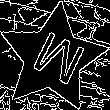M_SW: (21, 26, 84, 91)
